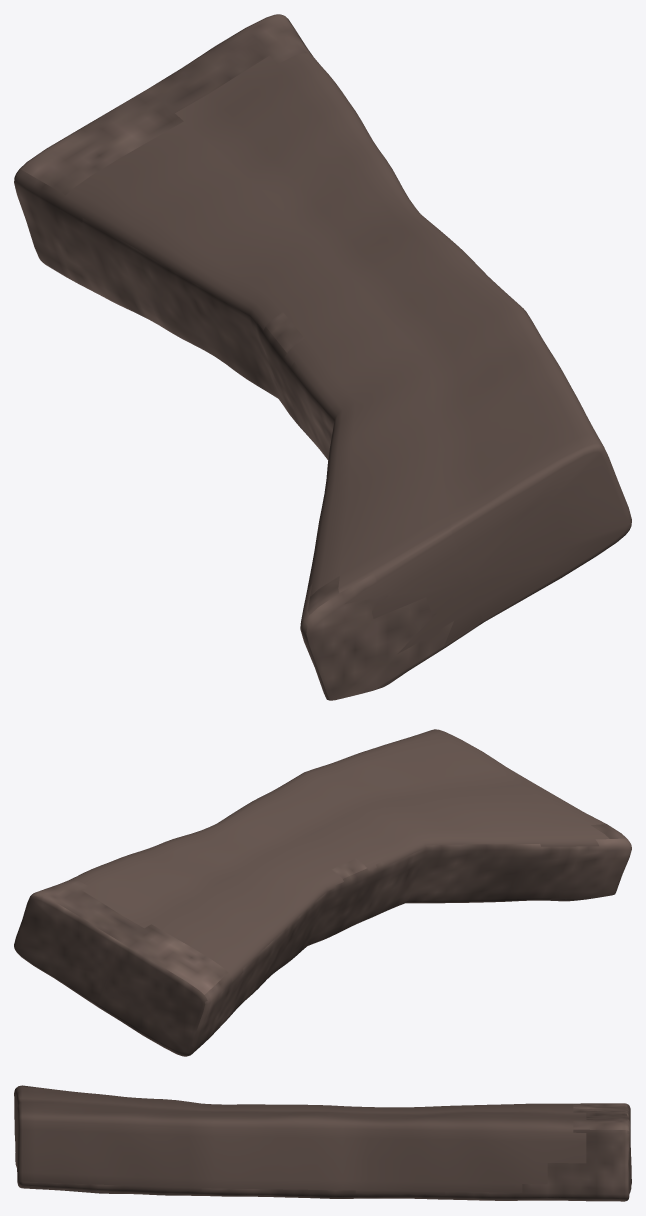
The model's file is TarHenge05.glb.
3 renders of one model, top to bottom at view 1: azimuth 30°, elevation 25°; view 2: azimuth 150°, elevation 25°; view 3: azimuth 270°, elevation 25°, orthographic. The views are drawn at different scales.
Visible parts, largest first — view 1: TarHenge05; view 2: TarHenge05; view 3: TarHenge05.
Part boxes in pixels (x1,y1,x2,y2): TarHenge05: [14, 14, 631, 700]; TarHenge05: [14, 729, 631, 1056]; TarHenge05: [14, 1085, 631, 1201].
Size of the model in its own units: 2.74 by 1.33 by 4.73.
2 materials, 1 textured.
